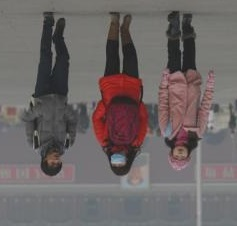person: (93, 11, 149, 176), (22, 11, 77, 177), (158, 10, 213, 171), (143, 102, 161, 137), (126, 155, 147, 185), (74, 101, 91, 135), (226, 99, 237, 135), (208, 103, 219, 130)
